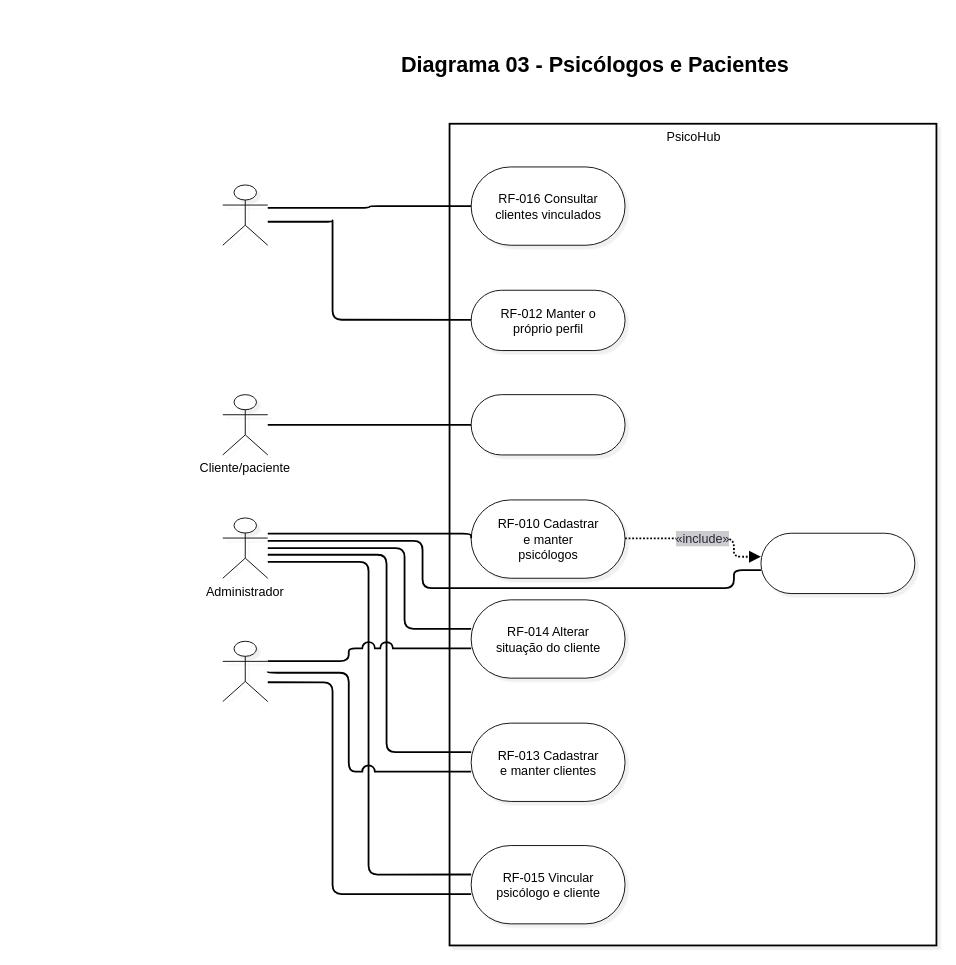
Image size: 956x965. Some labels were removed from this diagram. Here are the shapes that lost their labels. From the top down, the centre of each, then its label:
At (246,216): "Psicólogo".
At (549,426): "RF-017 Consultar dados próprios".
At (839,564): "RF-011 Gerenciar áreas de atuação".
At (246,672): "Atendente".
